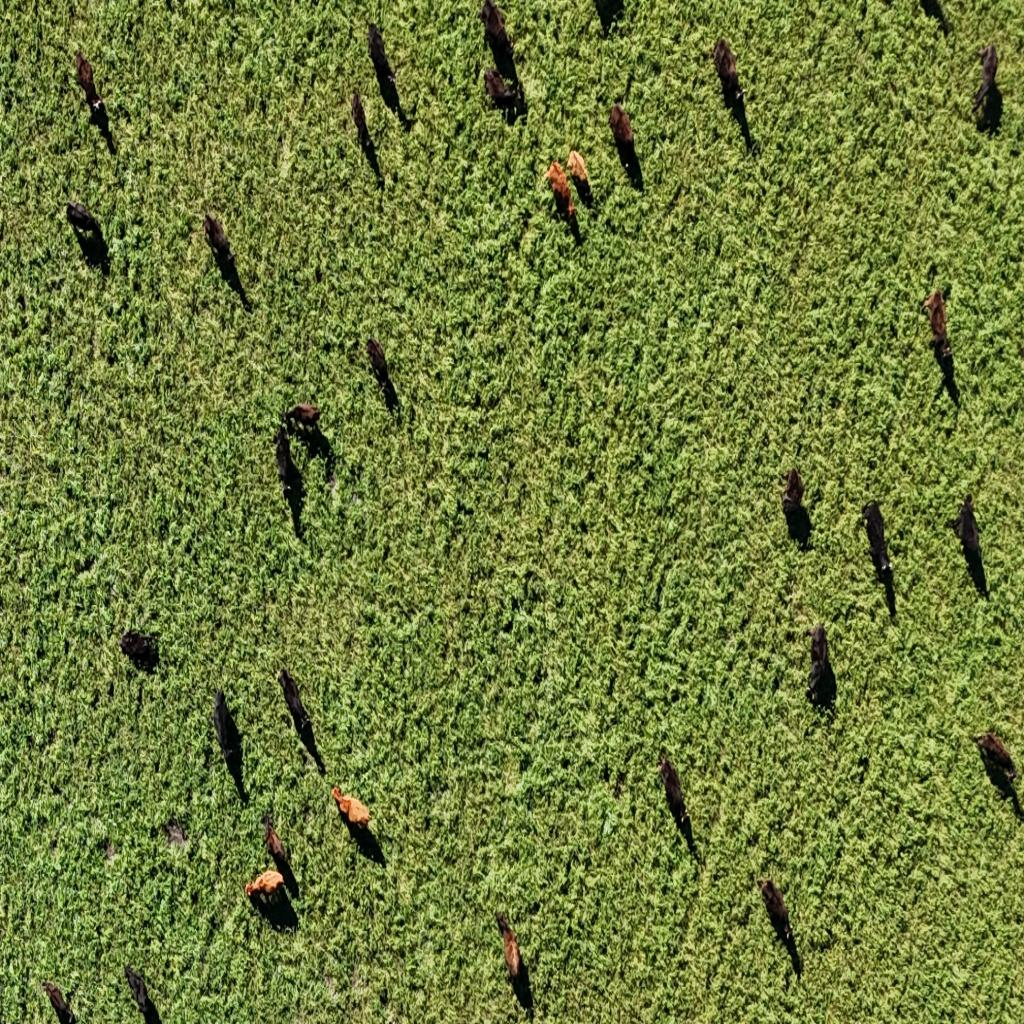cow: (656, 755, 690, 837), (498, 912, 530, 996), (276, 666, 312, 740), (860, 500, 894, 578), (920, 288, 952, 369), (480, 0, 516, 66), (756, 877, 792, 942), (971, 732, 1017, 782), (712, 36, 744, 107), (806, 625, 833, 709), (481, 69, 525, 119), (212, 687, 240, 765), (330, 785, 370, 835), (952, 492, 981, 560), (75, 51, 103, 119), (972, 42, 999, 112), (203, 212, 235, 271), (546, 159, 576, 219), (367, 21, 394, 86), (781, 468, 806, 536), (120, 629, 158, 673), (67, 201, 103, 247), (262, 813, 289, 873), (41, 979, 76, 1023), (299, 713, 325, 772), (351, 88, 373, 154), (244, 868, 284, 904), (608, 104, 635, 156), (566, 148, 591, 199), (124, 965, 150, 1014), (275, 420, 292, 494), (285, 402, 320, 437), (366, 336, 389, 388), (278, 667, 292, 699), (331, 785, 345, 811), (262, 813, 274, 841)
